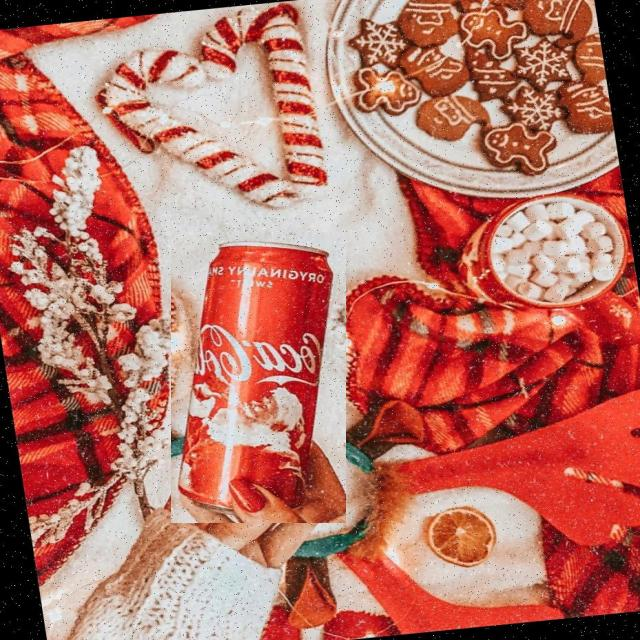coca-cola: (171, 232, 346, 523)
